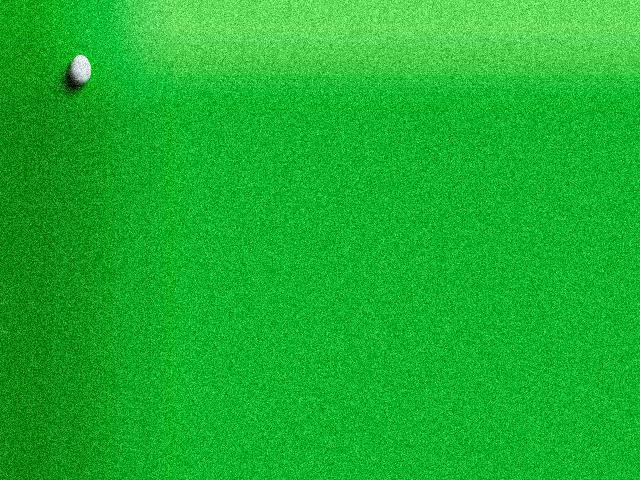egg: (69, 55, 91, 85)
